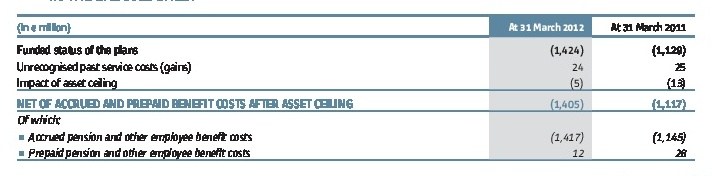table: (0, 0, 712, 176)
